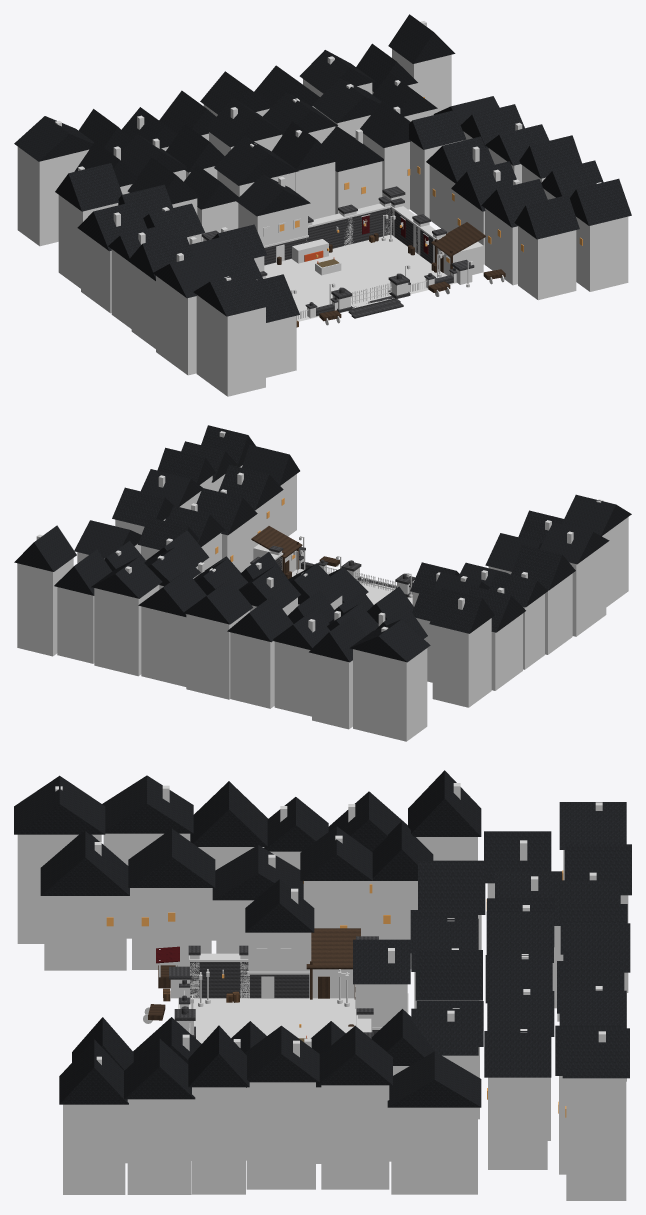
The model's file is town_safehouse.fbx.
3 views of the same model, one above another, from view 1: azimuth 30°, elevation 25°; view 2: azimuth 150°, elevation 25°; view 3: azimuth 270°, elevation 25° (orthographic). The views are drawn at different scales.
Parts seen in each view (by area): view 1: _MeshInstance3D_3, _MeshInstance3D_263, _MeshInstance3D_94, _MeshInstance3D_319, _MeshInstance3D_337, _MeshInstance3D_258, _MeshInstance3D_49, _MeshInstance3D_242, _MeshInstance3D_95, _MeshInstance3D_264, _MeshInstance3D_338, _MeshInstance3D_241 (+61 smaller); view 2: _MeshInstance3D_94, _MeshInstance3D_241, _MeshInstance3D_112, _MeshInstance3D_118, _MeshInstance3D_107, _MeshInstance3D_109, _MeshInstance3D_104, _MeshInstance3D_98, _MeshInstance3D_115, _MeshInstance3D_100, _MeshInstance3D_258, _MeshInstance3D_95 (+53 smaller); view 3: _MeshInstance3D_322, _MeshInstance3D_328, _MeshInstance3D_118, _MeshInstance3D_325, _MeshInstance3D_335, _MeshInstance3D_237, _MeshInstance3D_332, _MeshInstance3D_337, _MeshInstance3D_90, _MeshInstance3D_233, _MeshInstance3D_3, _MeshInstance3D_238 (+58 smaller).
Boxes of the visible parts, x1=… form: _MeshInstance3D_3: x1=264, y1=235, x2=456, y2=321; _MeshInstance3D_263: x1=196, y1=295, x2=265, y2=396; _MeshInstance3D_94: x1=17, y1=147, x2=88, y2=246; _MeshInstance3D_319: x1=518, y1=226, x2=576, y2=300; _MeshInstance3D_337: x1=576, y1=216, x2=628, y2=291; _MeshInstance3D_258: x1=156, y1=276, x2=196, y2=375; _MeshInstance3D_49: x1=214, y1=136, x2=298, y2=185; _MeshInstance3D_242: x1=55, y1=163, x2=122, y2=211; _MeshInstance3D_95: x1=14, y1=116, x2=94, y2=161; _MeshInstance3D_264: x1=193, y1=271, x2=269, y2=316; _MeshInstance3D_338: x1=570, y1=178, x2=631, y2=225; _MeshInstance3D_241: x1=58, y1=195, x2=118, y2=288; _MeshInstance3D_94: x1=353, y1=648, x2=427, y2=741; _MeshInstance3D_241: x1=432, y1=618, x2=491, y2=707; _MeshInstance3D_112: x1=94, y1=585, x2=159, y2=676; _MeshInstance3D_118: x1=17, y1=558, x2=73, y2=656; _MeshInstance3D_107: x1=186, y1=610, x2=249, y2=699; _MeshInstance3D_109: x1=141, y1=606, x2=186, y2=686; _MeshInstance3D_104: x1=230, y1=632, x2=274, y2=708; _MeshInstance3D_98: x1=312, y1=653, x2=352, y2=729; _MeshInstance3D_115: x1=57, y1=587, x2=94, y2=663; _MeshInstance3D_100: x1=274, y1=641, x2=311, y2=716; _MeshInstance3D_258: x1=569, y1=543, x2=606, y2=636; _MeshInstance3D_95: x1=350, y1=619, x2=430, y2=662; _MeshInstance3D_322: x1=391, y1=1107, x2=477, y2=1194; _MeshInstance3D_328: x1=246, y1=1082, x2=315, y2=1189; _MeshInstance3D_118: x1=566, y1=1078, x2=626, y2=1200; _MeshInstance3D_325: x1=321, y1=1085, x2=389, y2=1189; _MeshInstance3D_335: x1=127, y1=1099, x2=191, y2=1194; _MeshInstance3D_237: x1=44, y1=896, x2=126, y2=970; _MeshInstance3D_332: x1=192, y1=1087, x2=245, y2=1194; _MeshInstance3D_337: x1=63, y1=1104, x2=125, y2=1194; _MeshInstance3D_90: x1=488, y1=1077, x2=547, y2=1169; _MeshInstance3D_233: x1=132, y1=888, x2=211, y2=969; _MeshInstance3D_3: x1=178, y1=998, x2=355, y2=1043; _MeshInstance3D_238: x1=40, y1=831, x2=129, y2=895.
Size of what is drawn, in the model's own units: 5730 by 1532 by 5152.
15 materials, 5 textured.
